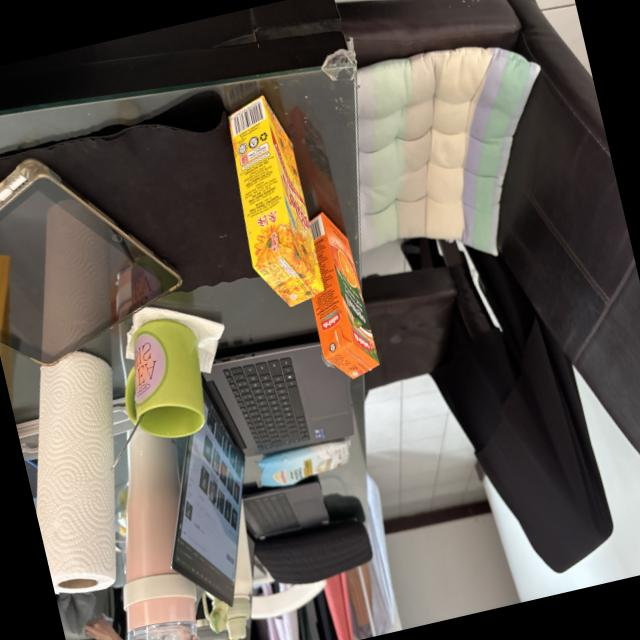drink_carton: (211, 82, 336, 323), (284, 196, 389, 398)
